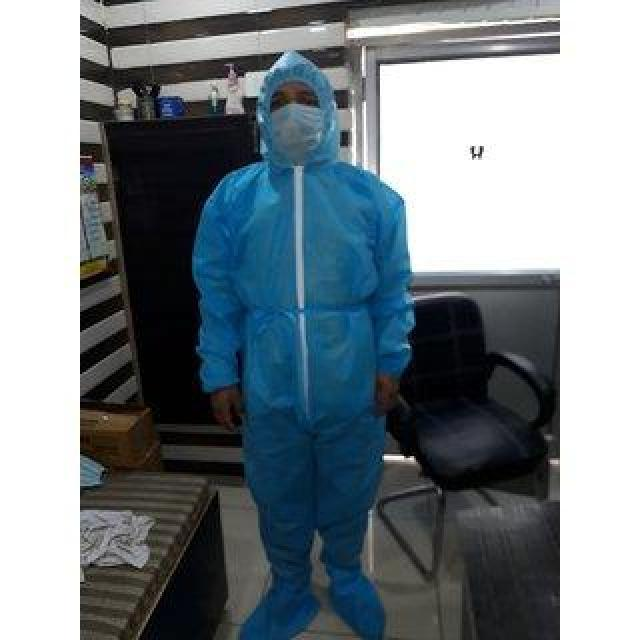Coverall: (174, 44, 432, 640)
Mask: (240, 106, 348, 158)
